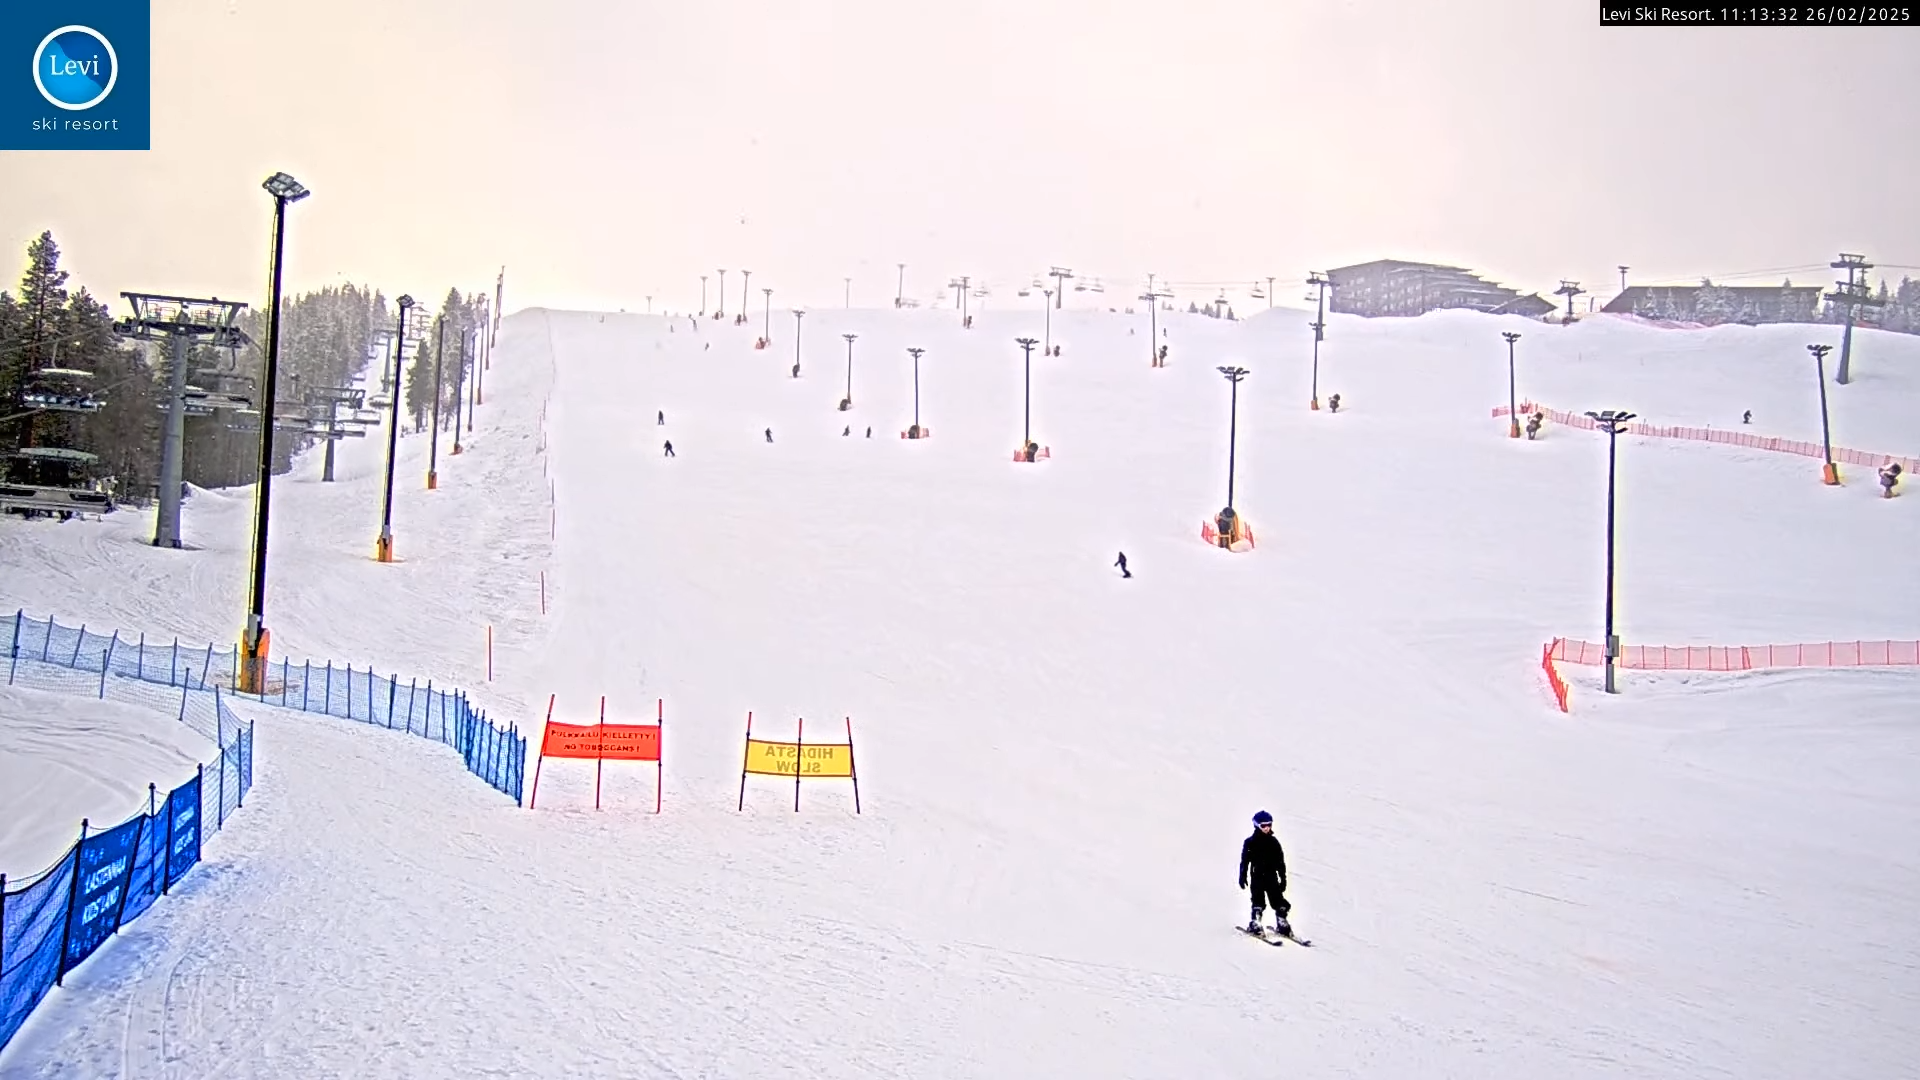skier: (1226, 802, 1312, 951)
